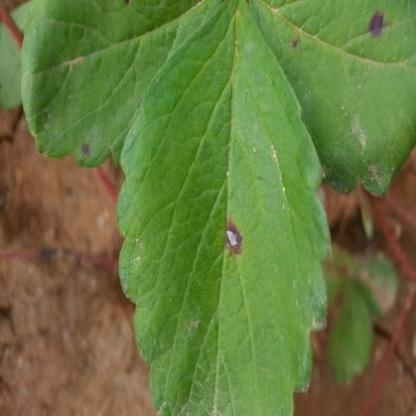Strawberry_Leaf_Spot: (116, 0, 332, 415), (21, 0, 222, 172), (247, 0, 415, 199), (320, 243, 352, 304)
